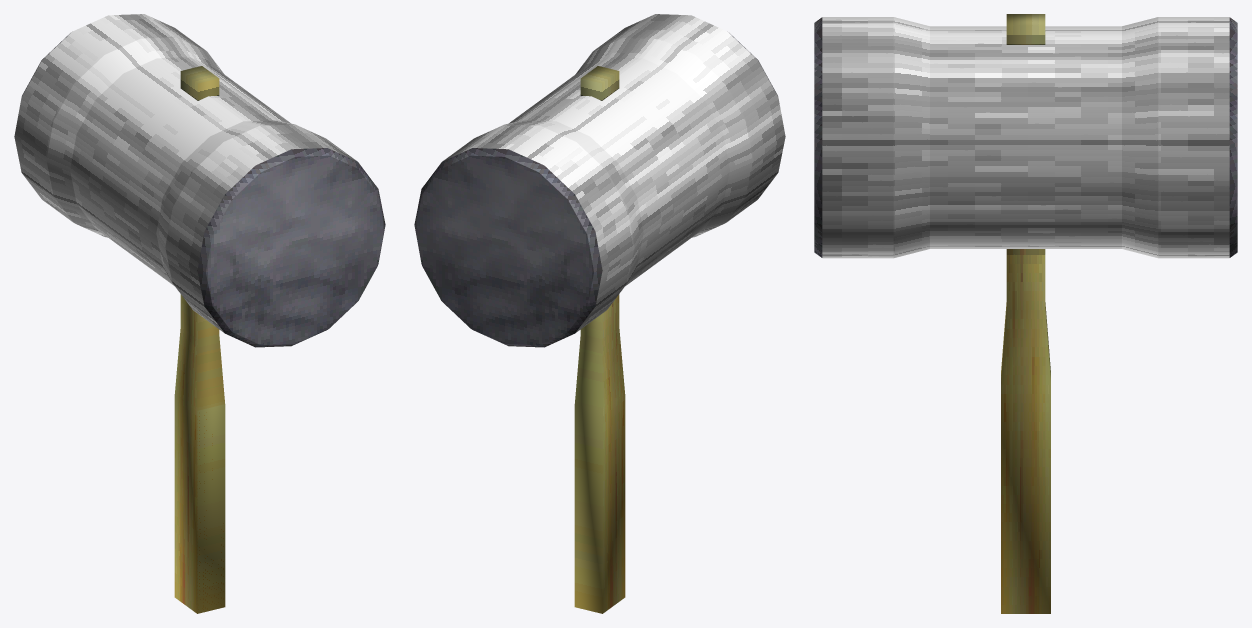
Rendered from ItmHammer.obj.
The picture shows the model from 3 angles, left to right: view 1: azimuth 30°, elevation 25°; view 2: azimuth 150°, elevation 25°; view 3: azimuth 270°, elevation 25°; orthographic projection. The views are drawn at different scales.
Visible parts, largest first — view 1: polygon2, polygon1, polygon0; view 2: polygon2, polygon1, polygon0; view 3: polygon2, polygon0, polygon1.
Part boxes in pixels (box(x1,y1,x2,y2)): polygon2: box(14, 14, 356, 333); polygon1: box(22, 33, 385, 347); polygon0: box(174, 66, 225, 613); polygon2: box(443, 14, 785, 333); polygon1: box(414, 33, 777, 347); polygon0: box(574, 66, 625, 613); polygon2: box(822, 17, 1229, 258); polygon0: box(1001, 14, 1050, 613); polygon1: box(814, 17, 1237, 257).
Bounding box in the file's own units: 6.24 × 16.72 × 10.94.
3 materials, 3 textured.
